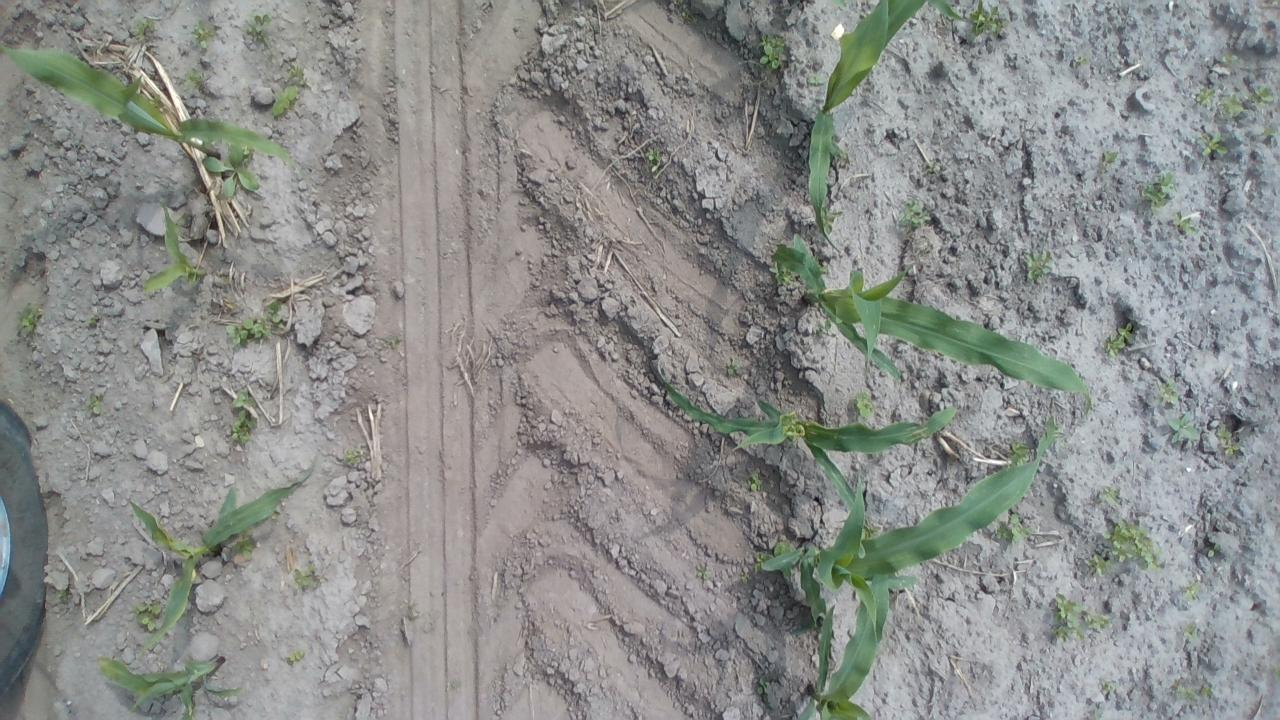Maize: (761, 416, 1058, 633), (648, 359, 958, 556), (772, 230, 1093, 417), (128, 466, 312, 656), (0, 42, 291, 160), (806, 0, 930, 246), (792, 575, 892, 720), (95, 652, 242, 720), (144, 198, 206, 294), (927, 0, 967, 24)
Weeds: (1084, 518, 1166, 576), (202, 142, 262, 198), (1052, 592, 1110, 644), (223, 300, 287, 346), (1140, 168, 1176, 215), (966, 0, 1008, 39), (229, 391, 258, 446), (991, 511, 1032, 544), (241, 8, 272, 46), (758, 32, 786, 72), (1167, 413, 1201, 444), (131, 598, 162, 632), (1104, 322, 1134, 357), (1024, 249, 1054, 284), (270, 86, 298, 120), (897, 199, 931, 226), (1198, 130, 1229, 158), (291, 564, 322, 591), (129, 15, 162, 40), (1152, 377, 1179, 406), (770, 260, 799, 286), (16, 302, 40, 333), (1007, 439, 1032, 468), (1246, 86, 1278, 108), (1174, 683, 1212, 701), (1218, 94, 1246, 118), (230, 535, 256, 560), (191, 21, 214, 49), (853, 390, 875, 419), (181, 71, 207, 95), (1215, 429, 1238, 456), (1172, 212, 1198, 234), (820, 206, 840, 234), (84, 390, 104, 418), (644, 144, 662, 174), (752, 550, 774, 572), (1095, 486, 1118, 507), (286, 62, 306, 86), (1194, 87, 1214, 108), (149, 93, 169, 114), (862, 518, 882, 537), (815, 318, 836, 336), (342, 447, 364, 464), (748, 470, 764, 491), (1183, 582, 1199, 601), (287, 648, 305, 664), (726, 357, 741, 376), (1220, 51, 1240, 65), (806, 72, 826, 86), (695, 564, 713, 579), (1182, 622, 1196, 641), (1205, 542, 1221, 558), (1102, 150, 1118, 165), (757, 677, 770, 695), (384, 335, 401, 348), (831, 0, 849, 12), (55, 591, 73, 602), (1101, 680, 1114, 694), (1260, 126, 1276, 137), (1273, 662, 1280, 683), (1078, 53, 1090, 65), (679, 8, 690, 19), (840, 148, 850, 160), (817, 264, 829, 274), (740, 574, 750, 584), (88, 314, 97, 324), (671, 0, 684, 5), (862, 10, 871, 17)
